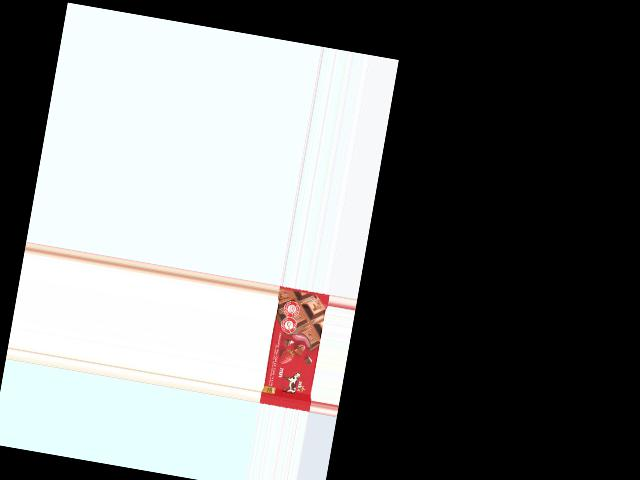chocolate: (259, 286, 329, 412)
